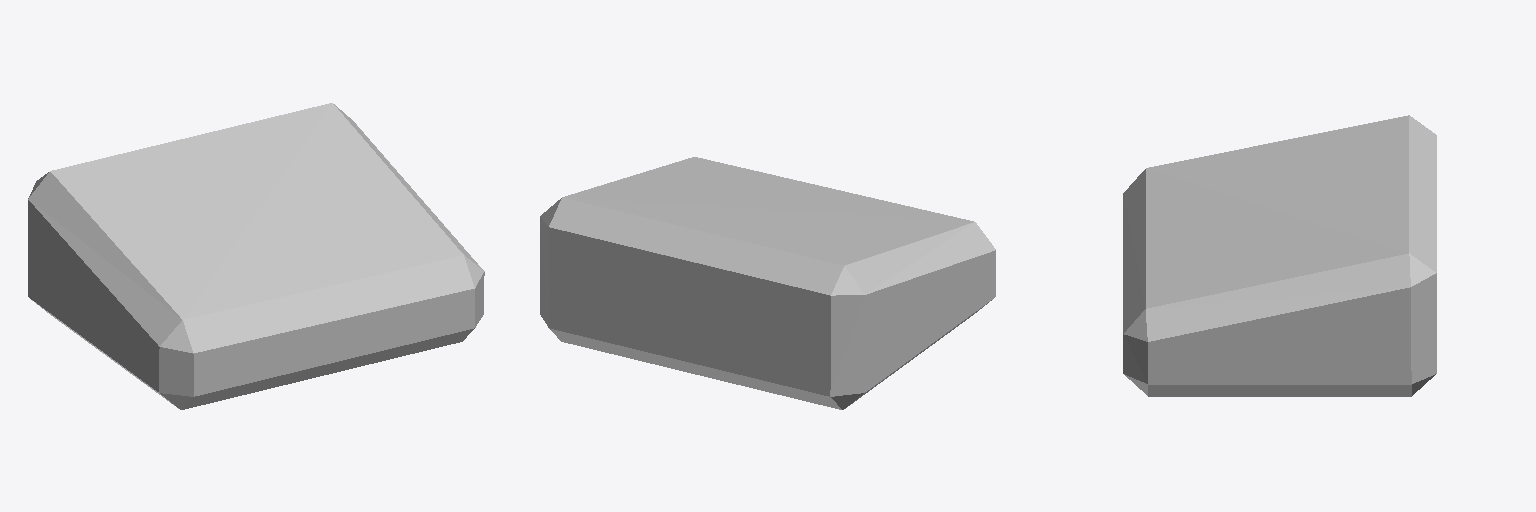
Rendered from licuadoraAbajo.obj.
The picture shows the model from 3 angles: view 1: azimuth 30°, elevation 25°; view 2: azimuth 150°, elevation 25°; view 3: azimuth 270°, elevation 25°; orthographic projection.
Visible parts, largest first — view 1: licuadoraAbajo:pCube1; view 2: licuadoraAbajo:pCube1; view 3: licuadoraAbajo:pCube1.
Boxes of the visible parts, x1,y1,x2,y2 form: licuadoraAbajo:pCube1: [28, 103, 484, 409]; licuadoraAbajo:pCube1: [540, 157, 995, 409]; licuadoraAbajo:pCube1: [1123, 115, 1436, 396].
Size of the model in its own units: 0.3303 by 0.1398 by 0.2758.